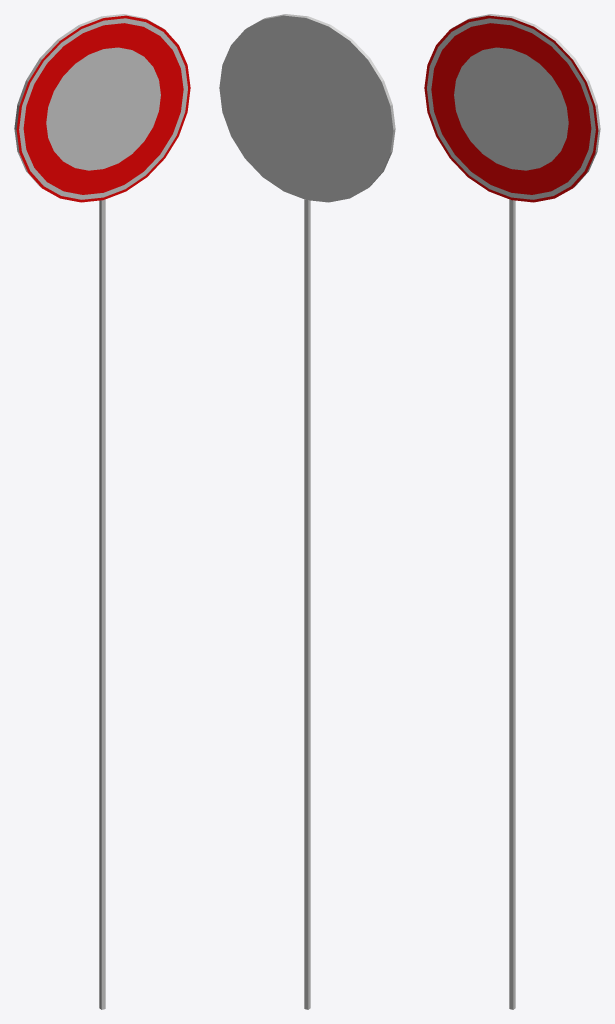
The model's file is trafik_levha_trafige_kapali.obj.
3 renders of one model, left to right at view 1: azimuth 30°, elevation 25°; view 2: azimuth 150°, elevation 25°; view 3: azimuth 330°, elevation 25°, orthographic.
Visible parts, largest first — view 1: Mesh2 Group3 Group1 Model, Mesh1 Group2 Group1 Model; view 2: Mesh2 Group3 Group1 Model, Mesh1 Group2 Group1 Model; view 3: Mesh2 Group3 Group1 Model, Mesh1 Group2 Group1 Model.
Part boxes in pixels (left/top/right/bottom): Mesh2 Group3 Group1 Model: left=14, top=14, right=190, bottom=202; Mesh1 Group2 Group1 Model: left=99, top=199, right=105, bottom=1009; Mesh2 Group3 Group1 Model: left=219, top=14, right=395, bottom=202; Mesh1 Group2 Group1 Model: left=304, top=199, right=310, bottom=1009; Mesh2 Group3 Group1 Model: left=424, top=14, right=600, bottom=202; Mesh1 Group2 Group1 Model: left=509, top=199, right=515, bottom=1009.
Size of the model in its own units: 450 by 2450 by 10.
